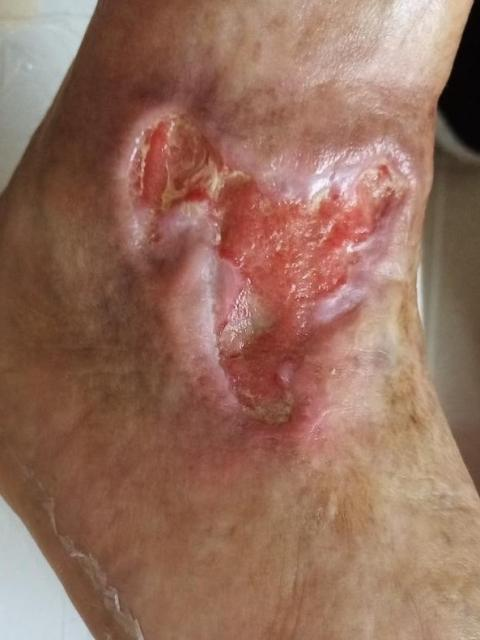wound: (128, 114, 408, 424)
